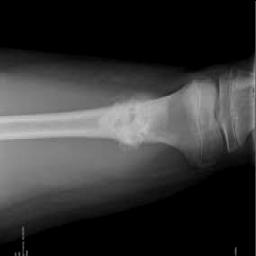cancer: (99, 96, 169, 145)
